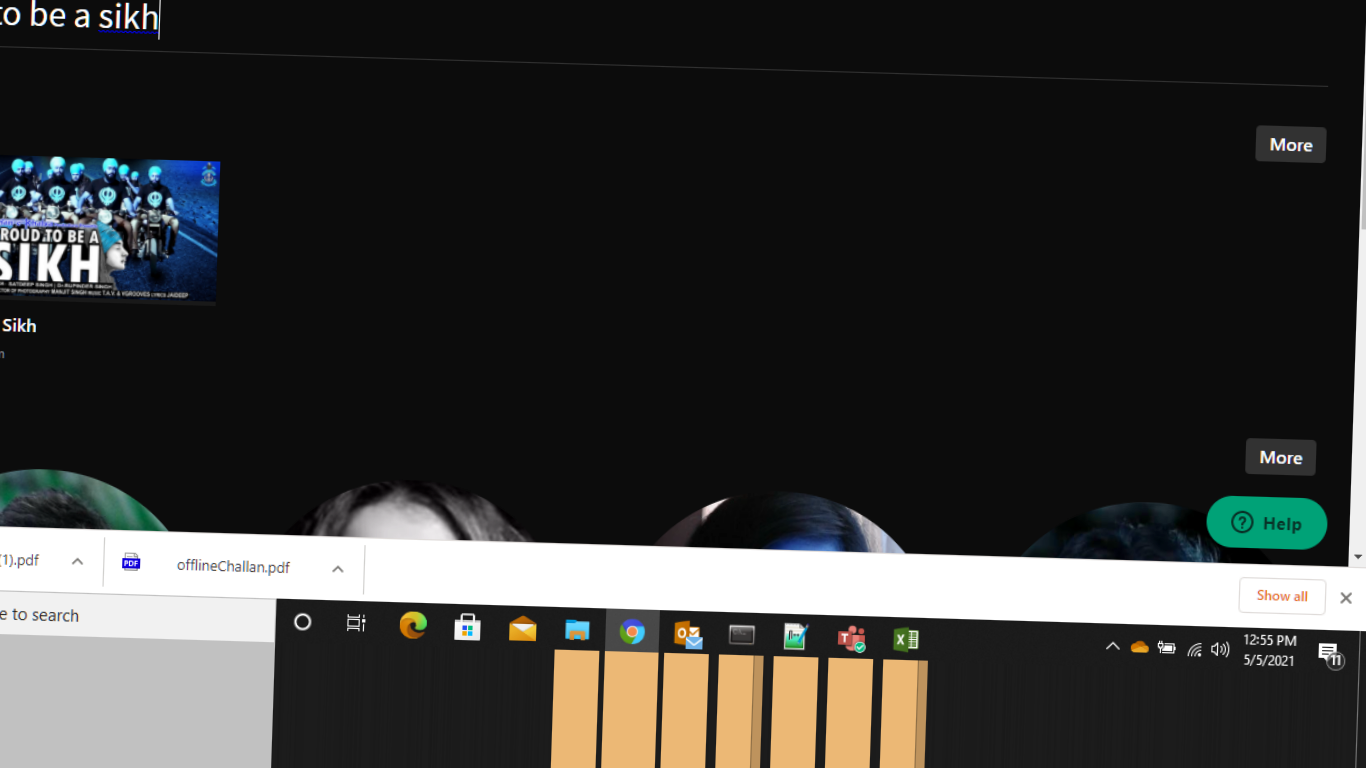searchtextbox: (1, 1, 208, 67)
